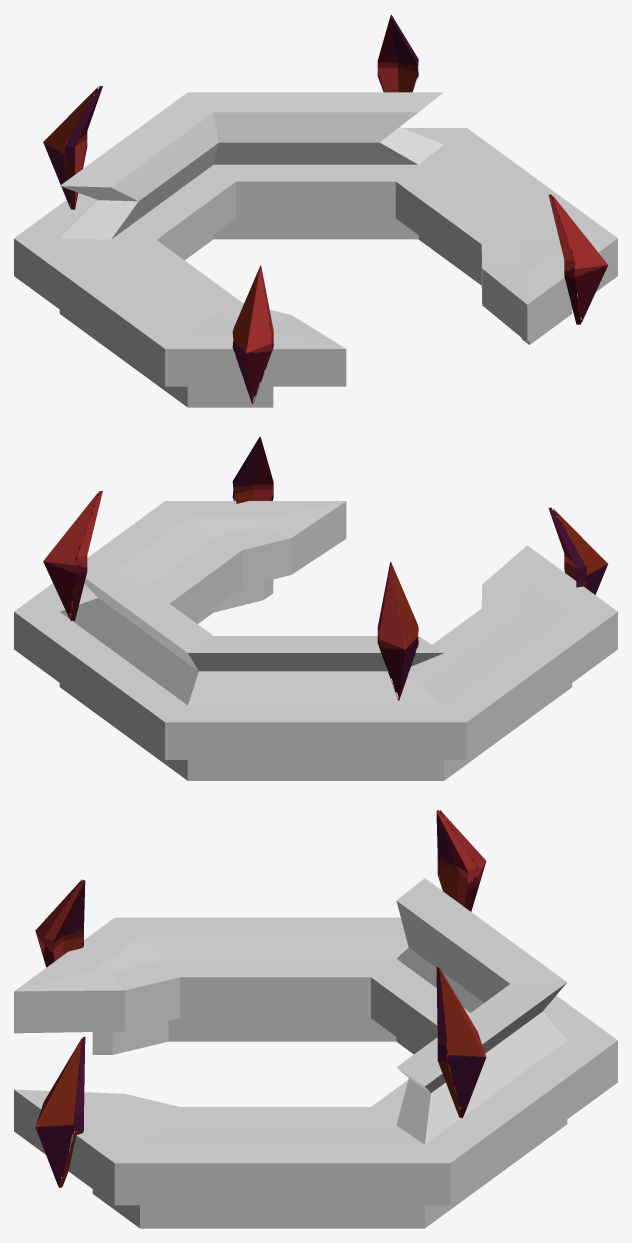
File: B_Lounge.fbx
3 views of the same model, one above another, from view 1: azimuth 30°, elevation 25°; view 2: azimuth 150°, elevation 25°; view 3: azimuth 270°, elevation 25° (orthographic). The views are drawn at different scales.
Visible parts, largest first — view 1: B_Lounge, B_Spike; view 2: B_Lounge, B_Spike; view 3: B_Lounge, B_Spike.
Part boxes in pixels (x1,y1,x2,y2): B_Lounge: (14,92,617,407); B_Spike: (43,14,607,404); B_Lounge: (14,501,617,780); B_Spike: (43,436,607,700); B_Lounge: (14,878,617,1228); B_Spike: (35,810,486,1187).
Bounding box in the file's own units: 61.21 × 27.47 × 63.62.
Materials: 2 (1 with a texture image).
